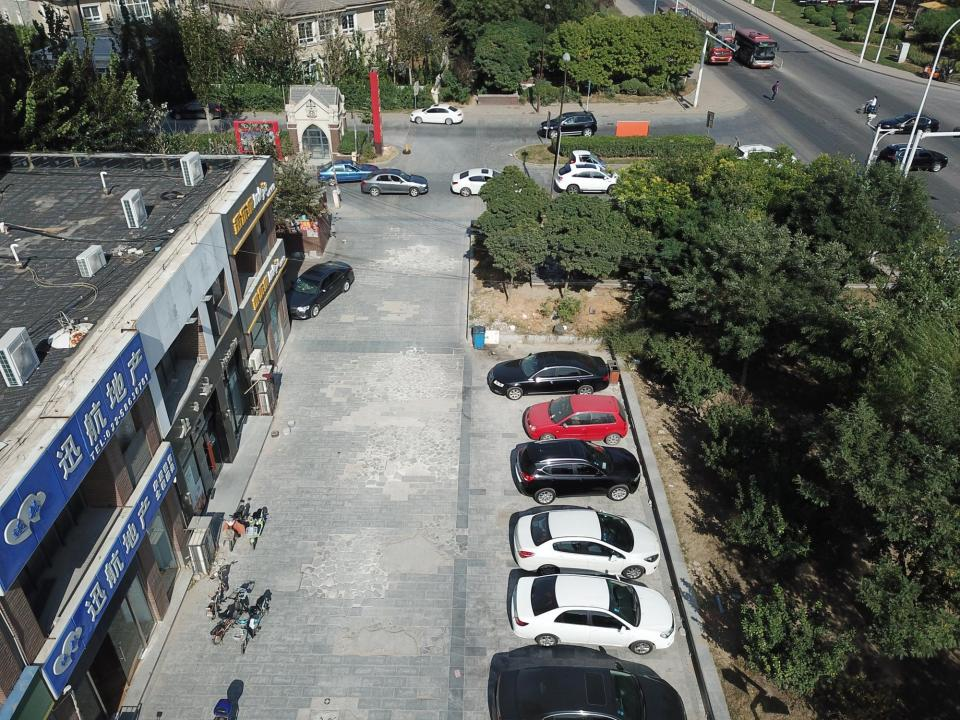bus: (734, 28, 779, 69)
car: (510, 573, 677, 655), (494, 660, 691, 720), (511, 512, 660, 578), (515, 438, 641, 503), (486, 351, 610, 400), (523, 394, 627, 446), (276, 259, 354, 320), (554, 164, 625, 195), (876, 145, 948, 175), (730, 145, 799, 176), (358, 168, 430, 197), (450, 167, 514, 197), (315, 159, 379, 187), (536, 111, 597, 139), (876, 112, 940, 136), (169, 100, 226, 122), (409, 103, 465, 125), (567, 151, 605, 173)
truck: (684, 25, 734, 64), (702, 20, 736, 42), (656, 5, 690, 25)
